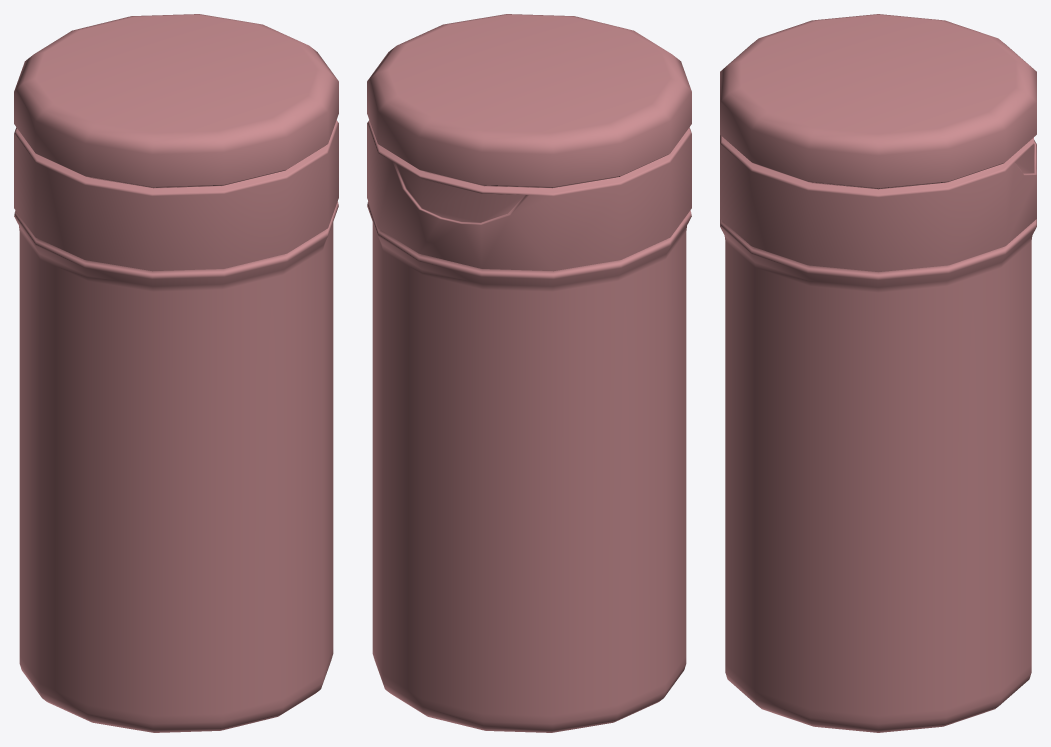
File: fish_food.fbx
The picture shows the model from 3 angles, left to right: view 1: azimuth 30°, elevation 25°; view 2: azimuth 150°, elevation 25°; view 3: azimuth 270°, elevation 25°; orthographic projection.
Visible parts, largest first — view 1: pCylinder4; view 2: pCylinder4; view 3: pCylinder4.
Part boxes in pixels (bbox=[...]): pCylinder4: bbox=[14, 14, 338, 732]; pCylinder4: bbox=[367, 14, 691, 732]; pCylinder4: bbox=[720, 14, 1036, 732].
Size of the model in its own units: 0.0781 by 0.1584 by 0.0762.
